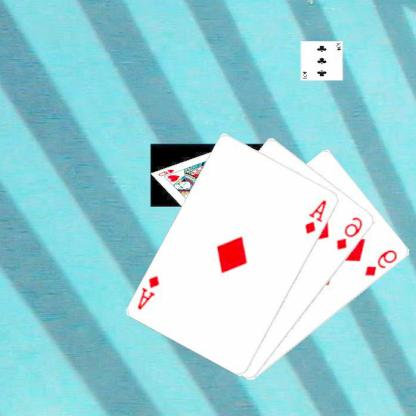6D: (335, 214, 366, 251)
9D: (364, 246, 401, 278)
AD: (136, 272, 164, 311), (304, 197, 330, 235)
